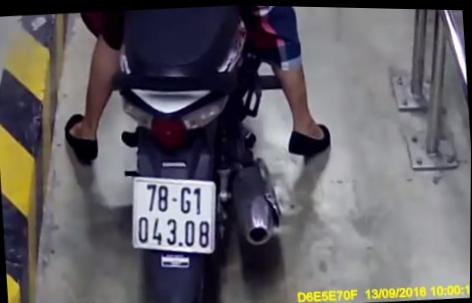LP: (123, 170, 223, 258)
